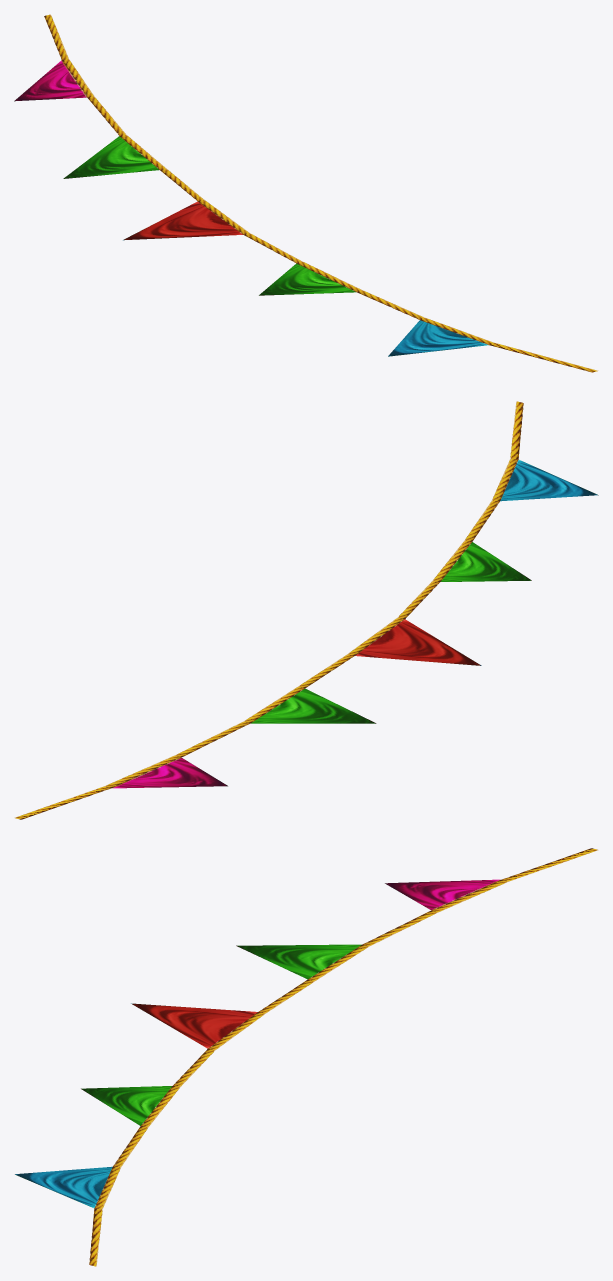
Rendered from banner.fbx.
3 renders of one model, top to bottom at view 1: azimuth 30°, elevation 25°; view 2: azimuth 150°, elevation 25°; view 3: azimuth 330°, elevation 25°, orthographic. The views are drawn at different scales.
Visible parts, largest first — view 1: polySurface1; view 2: polySurface1; view 3: polySurface1.
Boxes of the visible parts, left/top/right/bottom form: polySurface1: left=14, top=14, right=598, bottom=372; polySurface1: left=14, top=401, right=598, bottom=819; polySurface1: left=15, top=848, right=598, bottom=1266.
Size of the model in its own units: 76.17 by 0.221 by 298.
